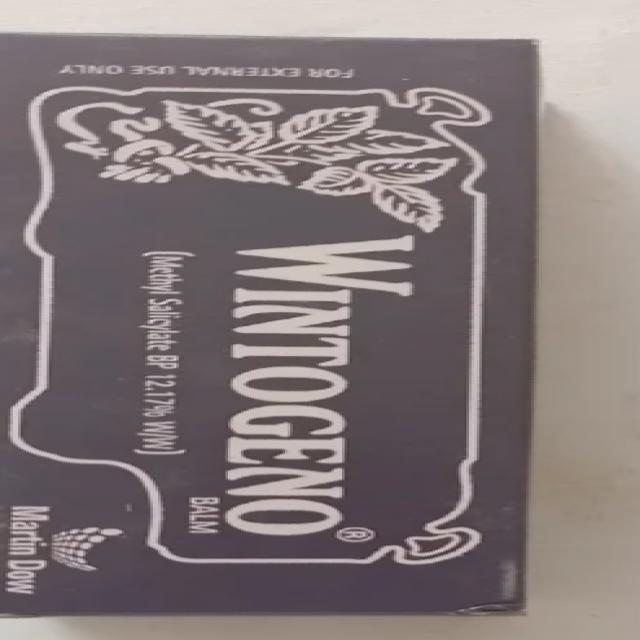drug-name: (224, 228, 423, 541)
